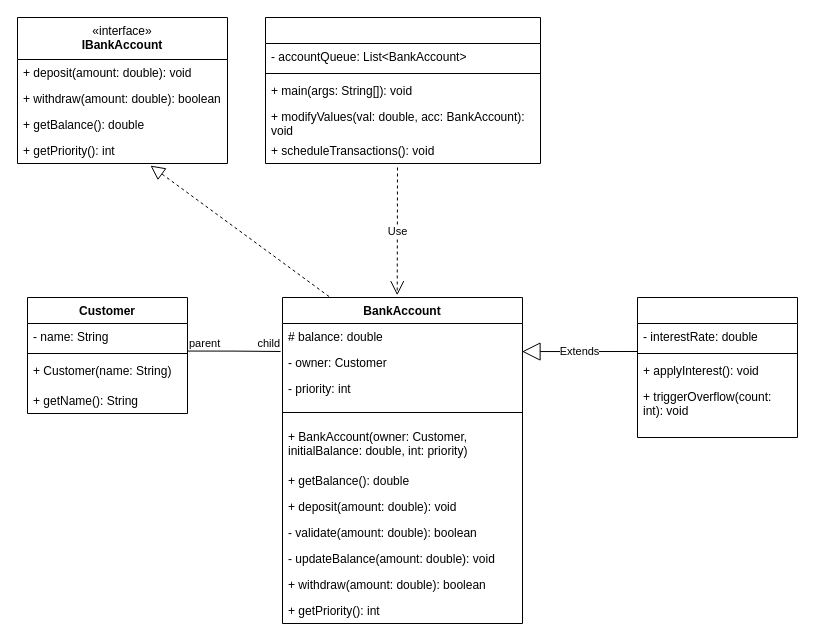
Image size: 815x644. Some labels were removed from this diagram. The box of each missing label's shape, as (x1, y1, x2, y2) in pixels:
SavingsAccount: (636, 296, 798, 438)
TestBank: (264, 16, 540, 164)
